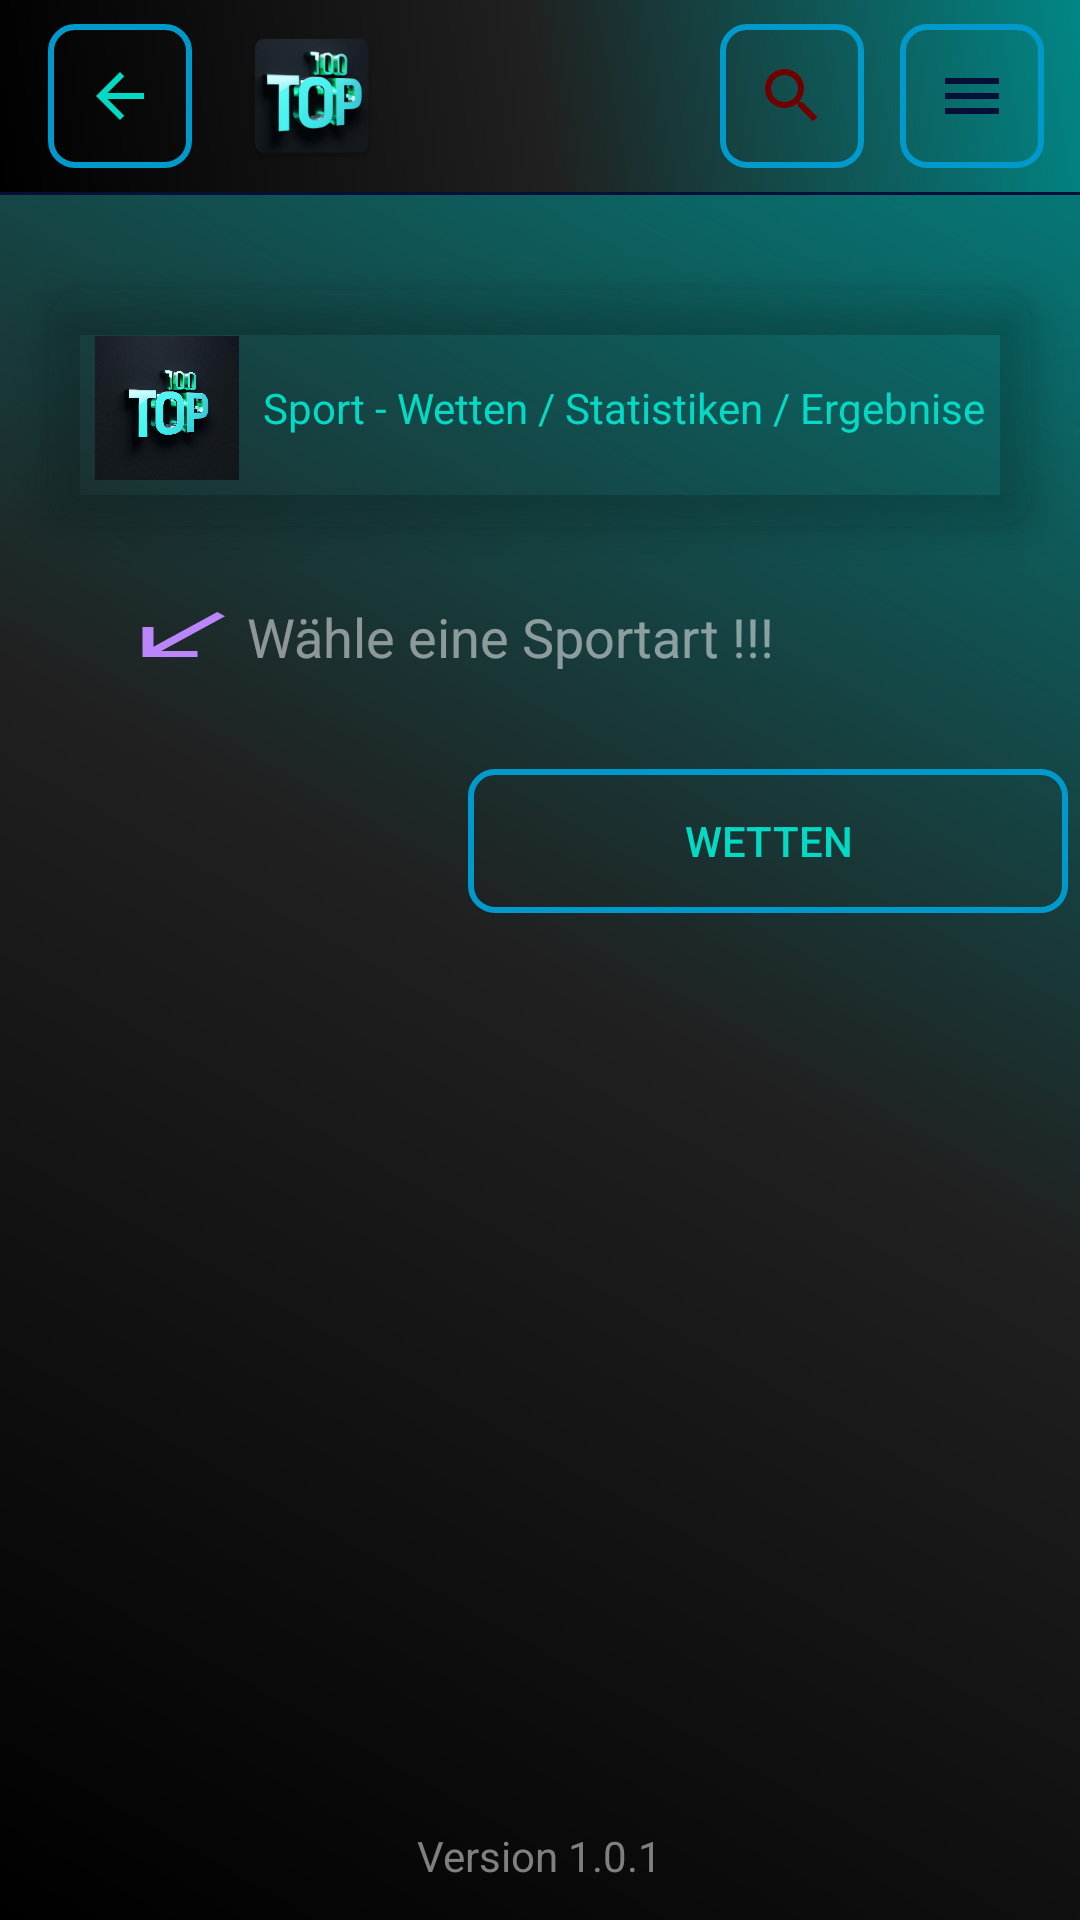

Icon click points for this 1080×1920 phone screenshot, format point (x, y):
Zum vorherigen Bildschirm gehen: point (120, 96)
